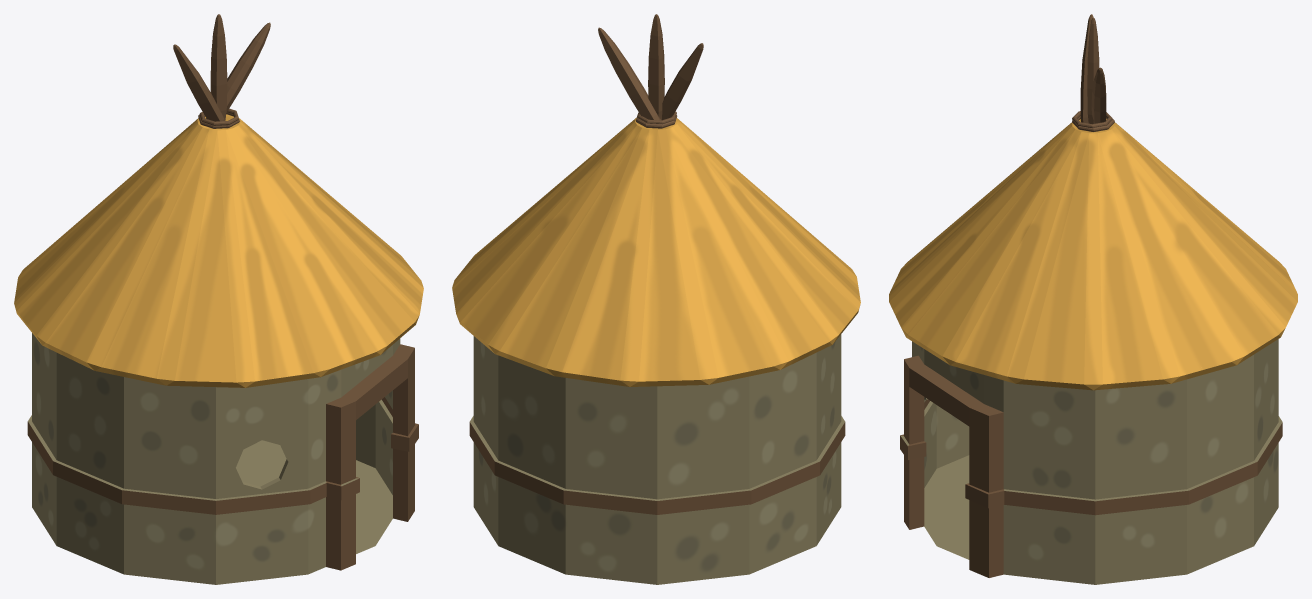
File: choza.fbx
3 renders of one model, left to right at view 1: azimuth 30°, elevation 25°; view 2: azimuth 150°, elevation 25°; view 3: azimuth 270°, elevation 25°, orthographic.
Visible parts, largest first — view 1: choza; view 2: choza; view 3: choza.
Boxes of the visible parts, x1=… form: choza: x1=14, y1=14, x2=423, y2=584; choza: x1=452, y1=14, x2=860, y2=584; choza: x1=889, y1=14, x2=1297, y2=584.
Bounding box in the file's own units: 335 × 443 × 335.
Materials: 3 (2 with a texture image).
